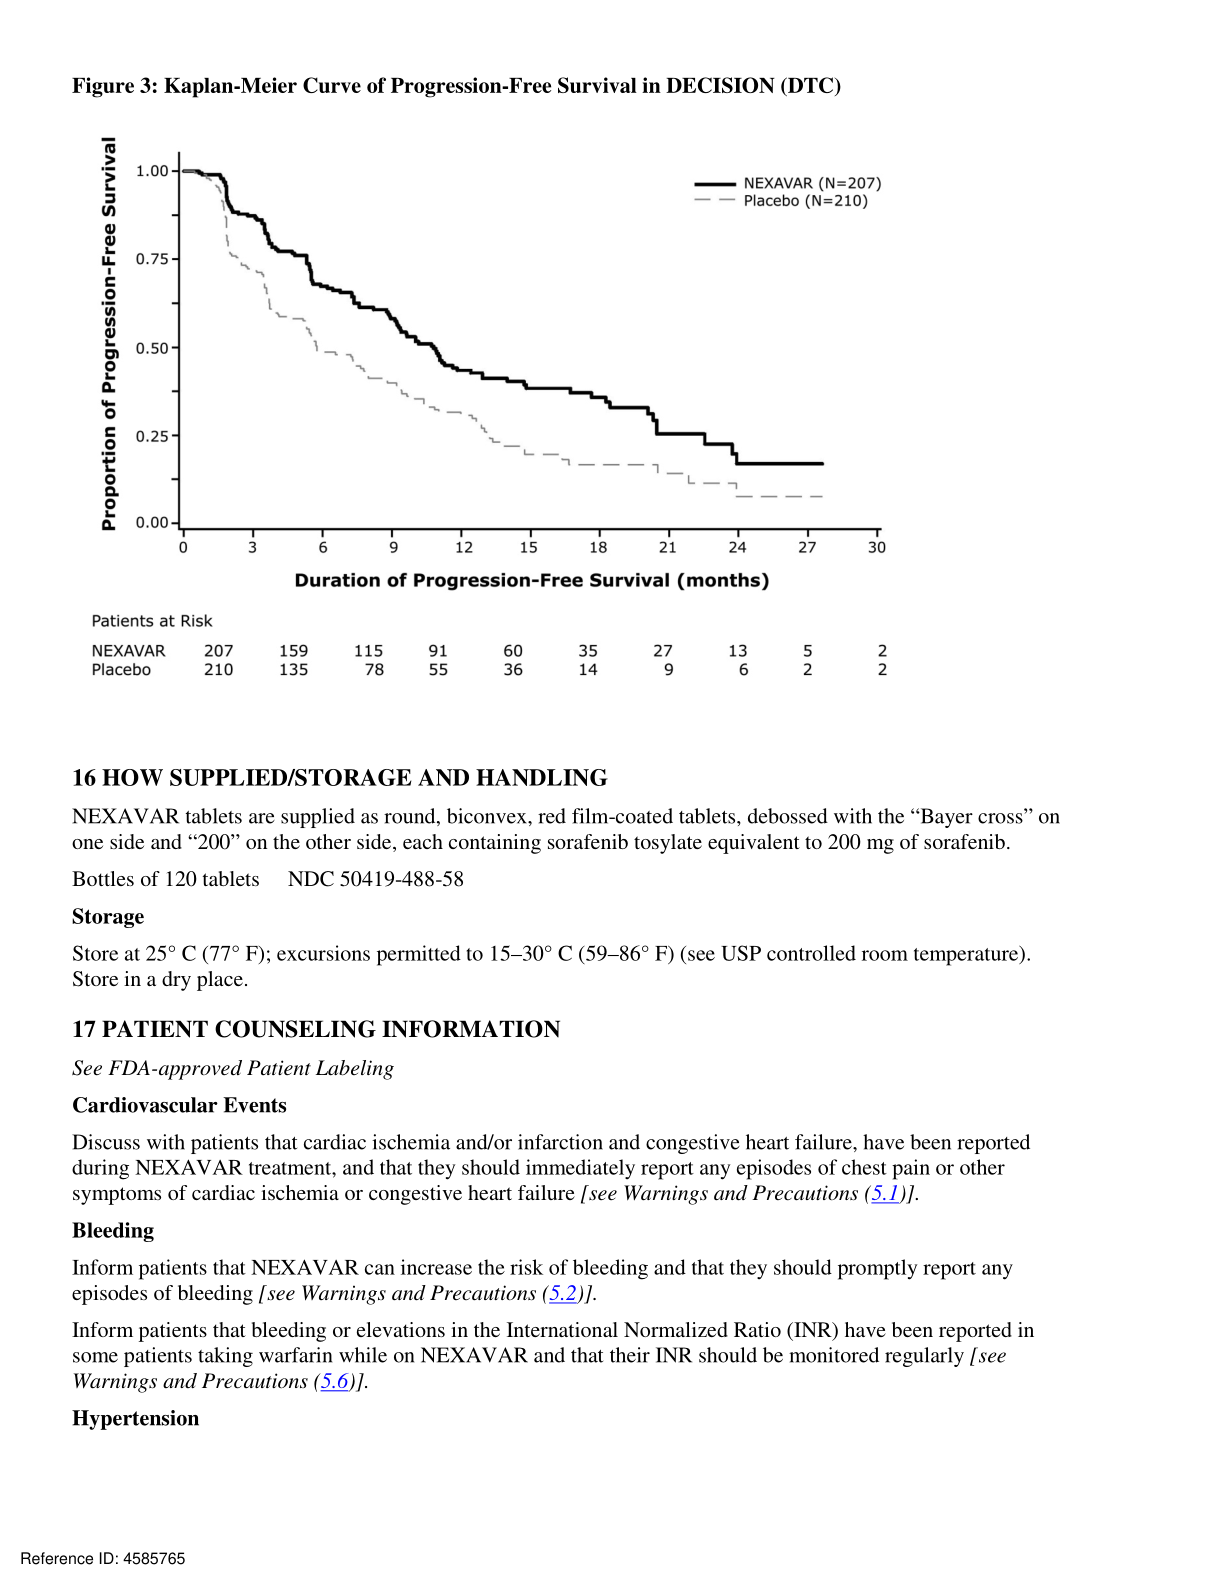nolines: (87, 639, 895, 681)
